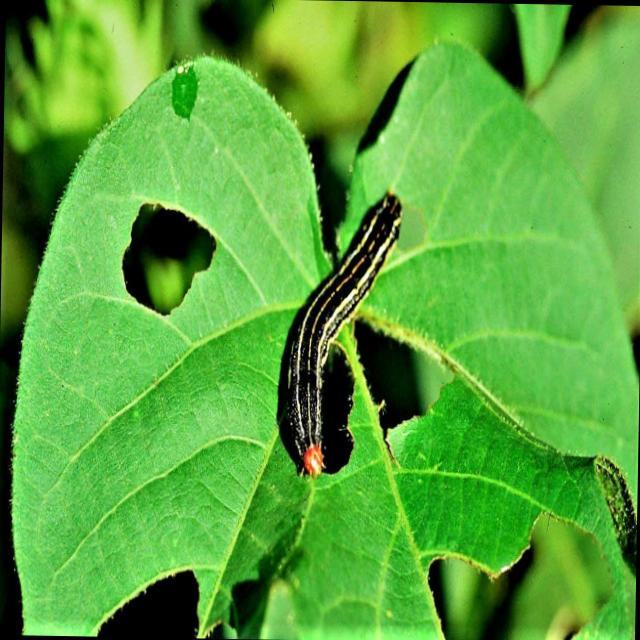Armyworm: (281, 173, 400, 482)
Armyworm_damage: (123, 181, 230, 357), (360, 310, 455, 463)
